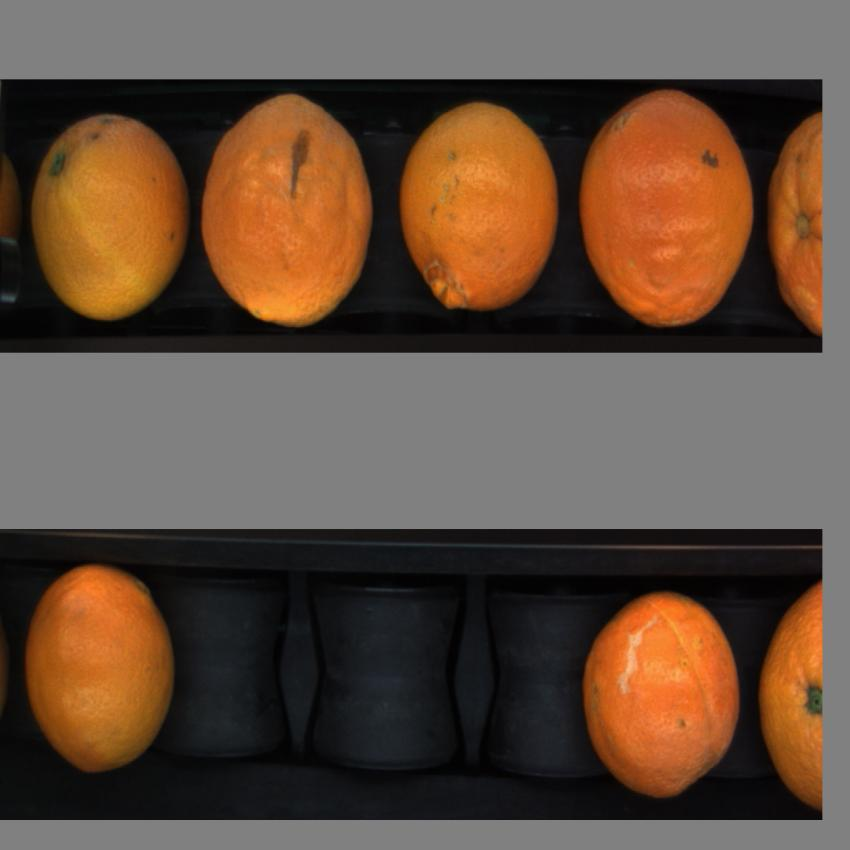Buen estado: (202, 97, 381, 329), (579, 94, 757, 325), (21, 560, 180, 788), (400, 105, 562, 325), (29, 110, 191, 326), (756, 576, 822, 808), (771, 111, 825, 337)
Mal estado: (586, 597, 749, 796)
